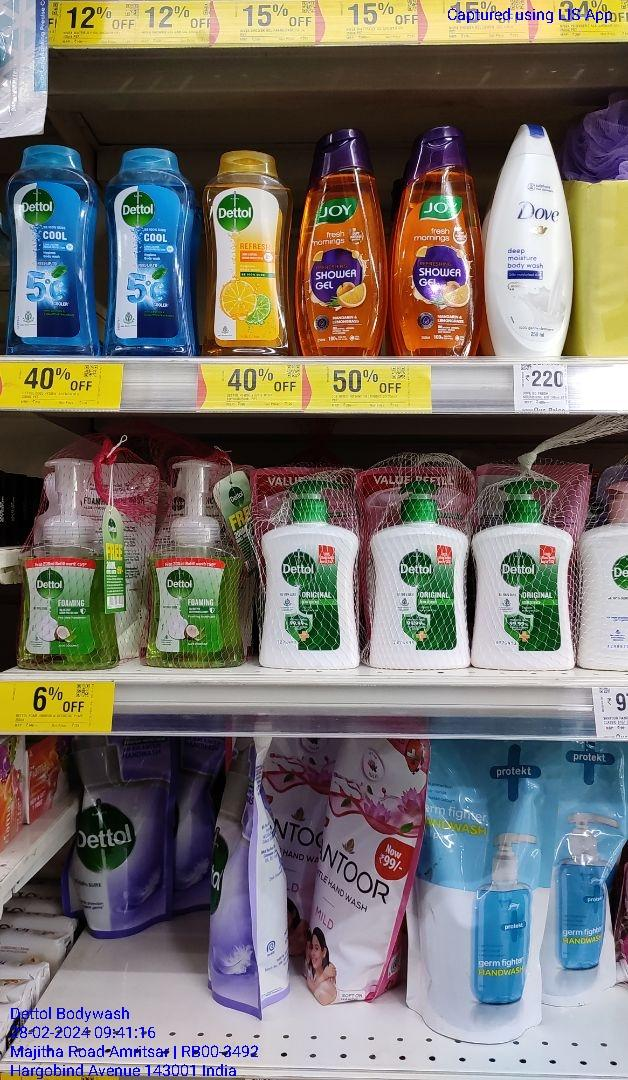Dettol_Bodywash_Cool: (7, 145, 95, 360), (106, 148, 186, 354)
Dettol_Bodywash_Refresh: (204, 145, 294, 359)
Dove_Deep_Moisture_Body_Wash_250ML: (492, 122, 573, 366)
Joy_Shower_Gel_Mandarin_and_Lemongrass_250ML: (299, 127, 383, 359), (397, 123, 480, 357)
